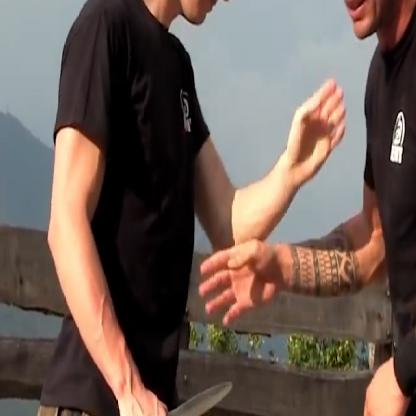knife: (114, 372, 242, 415)
